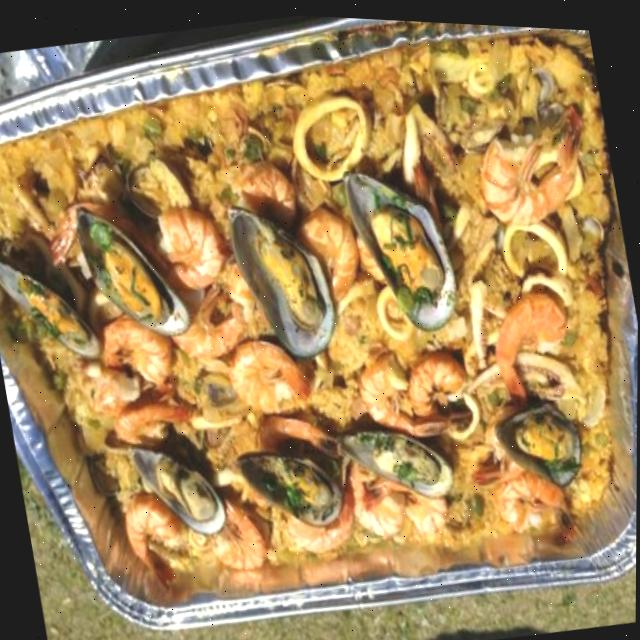蛋糕甜品: (0, 59, 640, 640)
